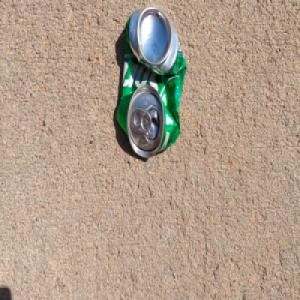SodaCan: (115, 4, 187, 160)
